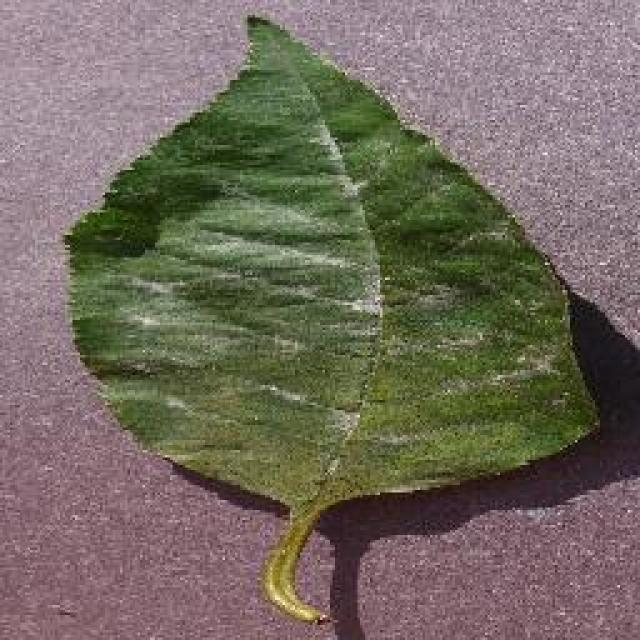Cherry___Powdery_mildew: (48, 0, 610, 635)
